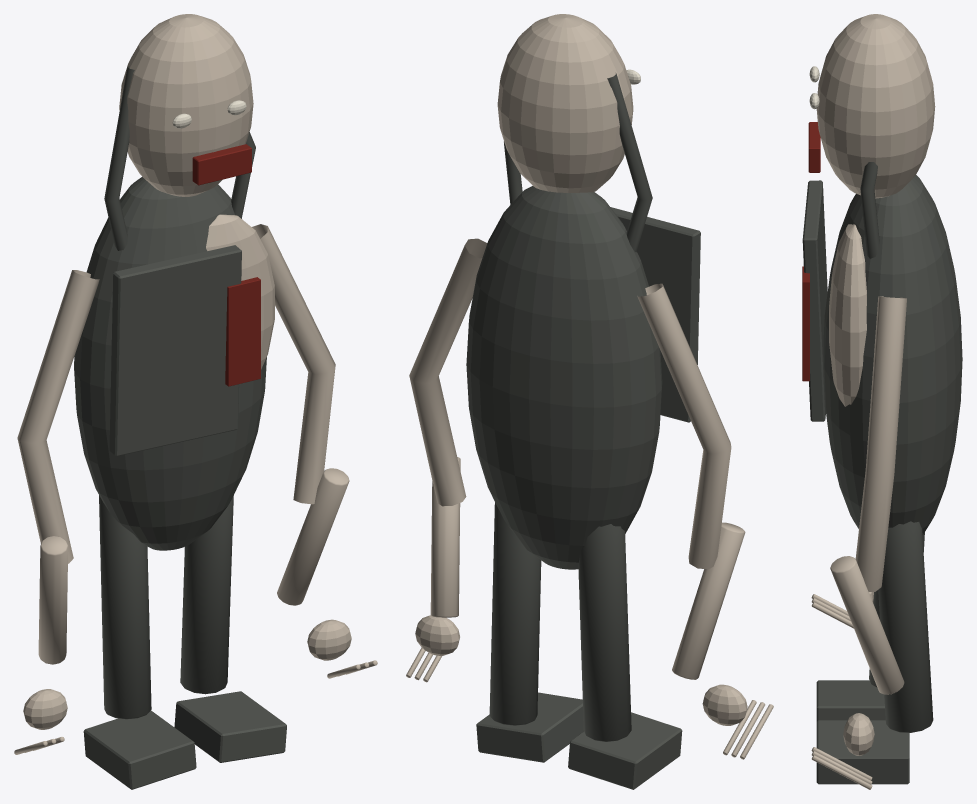
The model's file is dz_enemy_walker_female_A.glb.
The picture shows the model from 3 angles, left to right: view 1: azimuth 30°, elevation 25°; view 2: azimuth 150°, elevation 25°; view 3: azimuth 270°, elevation 25°; orthographic projection.
Parts seen in each view (by area): view 1: dz_torso_core, dz_shredded_jacket_panel, dz_head_forward, dz_limb_leg_L, dz_limb_arm_L, dz_limb_leg_R, dz_limb_arm_R, dz_foot_drag_L, dz_foot_drag_R, dz_limb_forearm_R, dz_open_wound_chest, dz_limb_forearm_L (+6 smaller); view 2: dz_torso_core, dz_head_forward, dz_limb_leg_L, dz_limb_leg_R, dz_limb_arm_L, dz_limb_arm_R, dz_shredded_jacket_panel, dz_foot_drag_L, dz_foot_drag_R, dz_limb_forearm_L, dz_limb_forearm_R, dz_hair_clump_left (+2 smaller); view 3: dz_torso_core, dz_head_forward, dz_limb_leg_R, dz_limb_arm_R, dz_chest_infected_growth, dz_shredded_jacket_panel, dz_foot_drag_R, dz_limb_forearm_R, dz_foot_drag_L, dz_hair_clump_right, dz_hand_claw_R, dz_open_wound_chest (+2 smaller).
Part boxes in pixels (left/top/right/bottom): dz_torso_core: left=74, top=176, right=266, bottom=550; dz_shredded_jacket_panel: left=109, top=245, right=241, bottom=456; dz_head_forward: left=119, top=14, right=253, bottom=196; dz_limb_leg_L: left=99, top=495, right=151, bottom=719; dz_limb_arm_L: left=17, top=270, right=99, bottom=563; dz_limb_leg_R: left=180, top=495, right=233, bottom=694; dz_limb_arm_R: left=252, top=224, right=335, bottom=504; dz_foot_drag_L: left=83, top=710, right=196, bottom=789; dz_foot_drag_R: left=174, top=691, right=286, bottom=762; dz_limb_forearm_R: left=277, top=468, right=349, bottom=605; dz_open_wound_chest: left=225, top=277, right=260, bottom=386; dz_limb_forearm_L: left=38, top=536, right=68, bottom=664; dz_torso_core: left=466, top=186, right=662, bottom=569; dz_head_forward: left=497, top=14, right=633, bottom=192; dz_limb_leg_L: left=578, top=524, right=631, bottom=741; dz_limb_leg_R: left=489, top=502, right=541, bottom=725; dz_limb_arm_L: left=637, top=283, right=731, bottom=569; dz_limb_arm_R: left=409, top=238, right=487, bottom=506; dz_shredded_jacket_panel: left=610, top=207, right=700, bottom=422; dz_foot_drag_L: left=568, top=712, right=682, bottom=789; dz_foot_drag_R: left=476, top=692, right=583, bottom=762; dz_limb_forearm_L: left=672, top=522, right=745, bottom=679; dz_limb_forearm_R: left=430, top=457, right=460, bottom=617; dz_hair_clump_left: left=607, top=73, right=652, bottom=252; dz_torso_core: left=823, top=175, right=962, bottom=534; dz_head_forward: left=816, top=14, right=935, bottom=198; dz_limb_leg_R: left=878, top=521, right=933, bottom=732; dz_limb_arm_R: left=855, top=296, right=906, bottom=591; dz_chest_infected_growth: left=829, top=224, right=866, bottom=406; dz_shredded_jacket_panel: left=802, top=180, right=827, bottom=421; dz_foot_drag_R: left=816, top=720, right=909, bottom=784; dz_limb_forearm_R: left=830, top=556, right=904, bottom=694; dz_foot_drag_L: left=816, top=680, right=885, bottom=721; dz_hair_clump_right: left=860, top=162, right=879, bottom=258; dz_hand_claw_R: left=843, top=713, right=874, bottom=755; dz_open_wound_chest: left=802, top=266, right=809, bottom=381.
Size of what is drawn, in the model's own units: 0.9166 by 1.91 by 0.3796.
